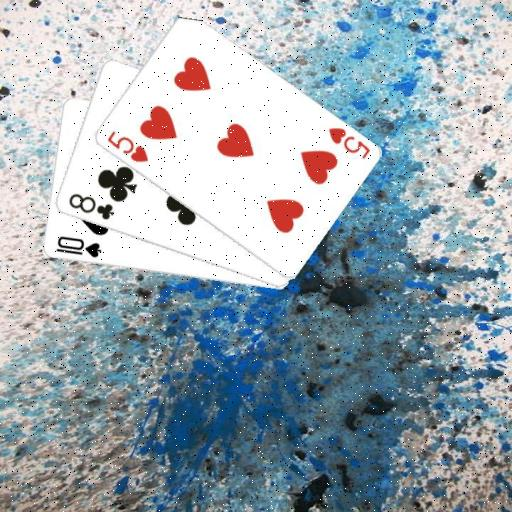10S: (53, 234, 103, 260)
5H: (324, 124, 371, 161), (103, 128, 149, 165)
8C: (65, 190, 115, 222)
